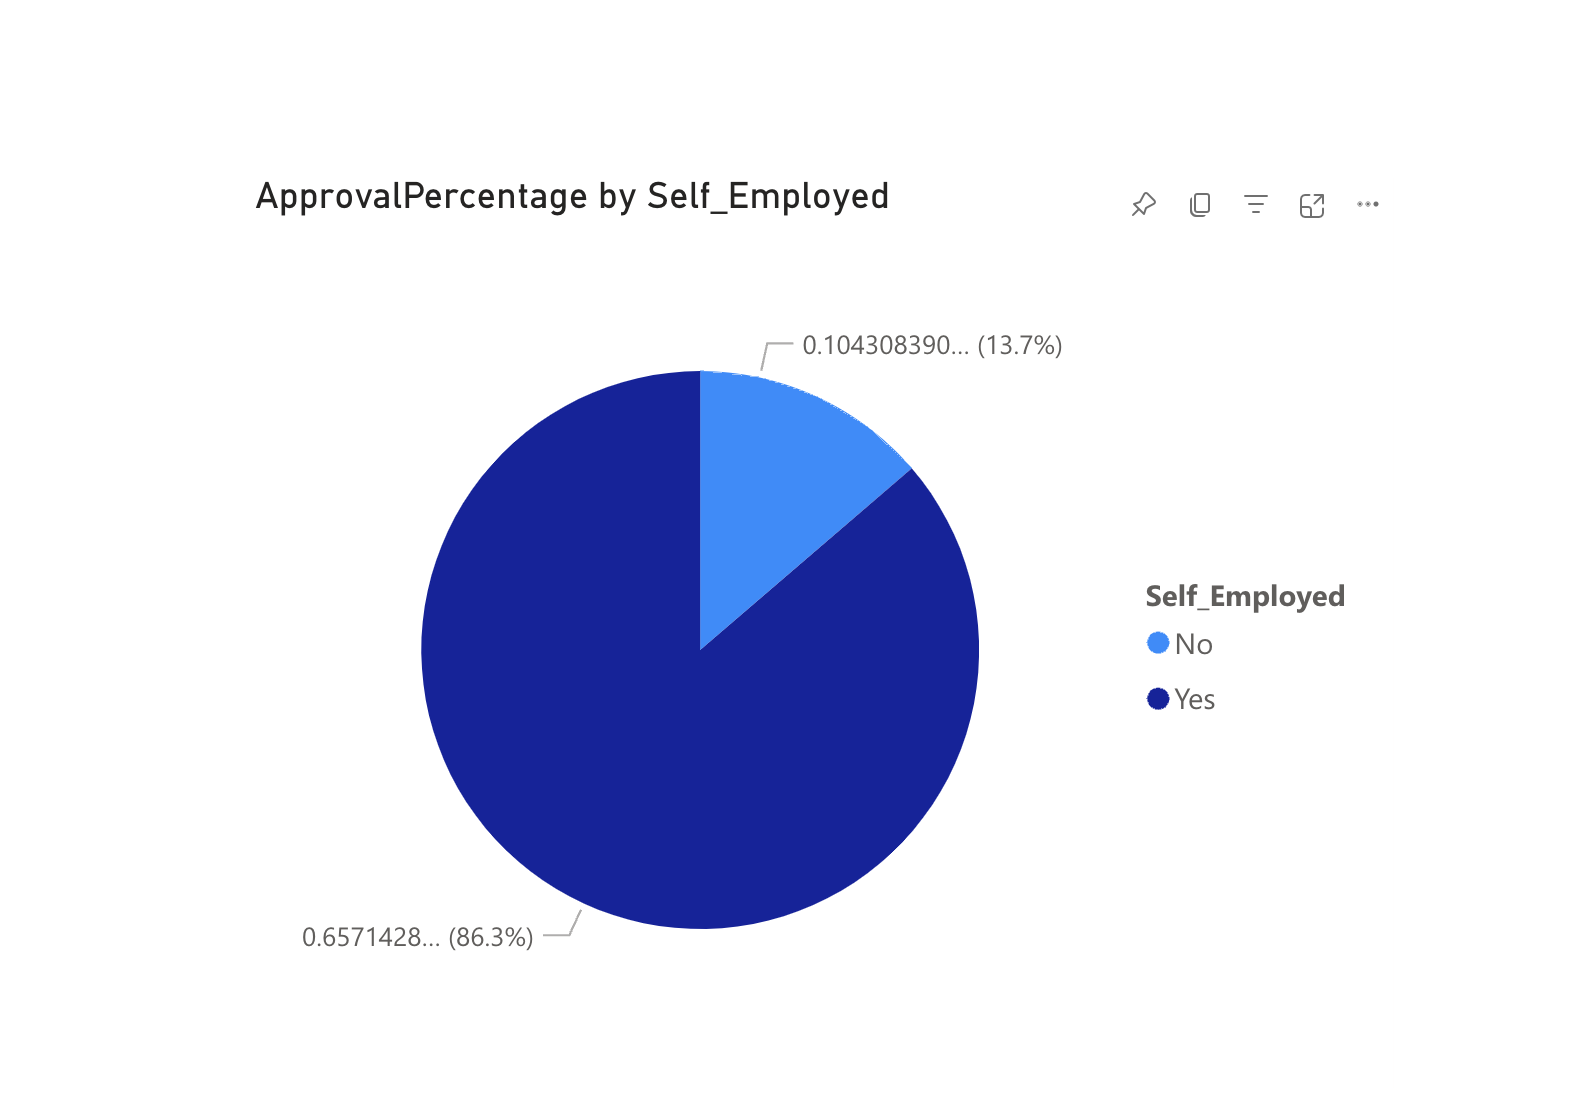

The page's visual inventory and layout, read from the dashboard file:
{"tool":"powerbi","page":{"name":"5.2","canvas":[1280,720],"ordinal":3},"visuals":[{"type":"pieChart","fields":{"Series":["cdw_sapp_loan_data.Self_Employed"],"Y":["cdw_sapp_loan_data.ApprovalPercentage"]},"box":[149.1,119.1,522.7,413.6],"z":0}]}

Visuals, with their boxes on the page's 1280x720 design canvas (x1, y1, x2, y2). These are canvas units, not pixel positions in the 1588x1094 screenshot, which may show the page scaled, cropped or inside an application window:
pieChart - cdw_sapp_loan_data.Self_Employed x cdw_sapp_loan_data.ApprovalPercentage: l=149, t=119, r=672, b=533
